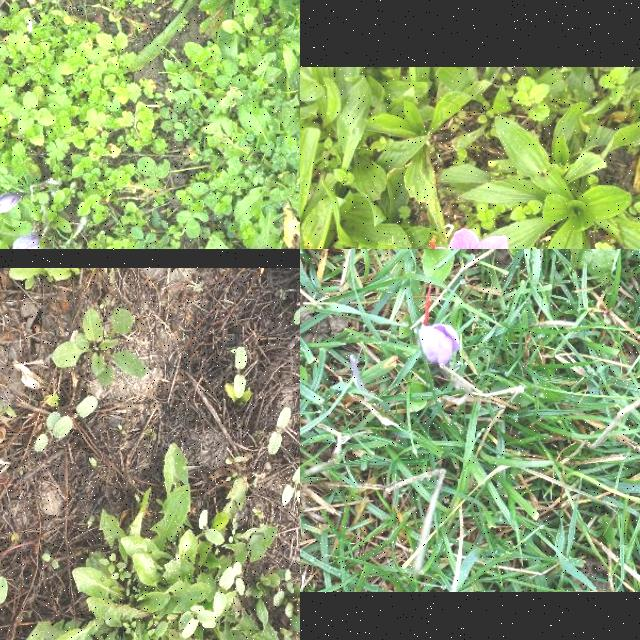flower: (420, 284, 460, 362), (448, 229, 520, 249), (0, 191, 24, 212), (12, 236, 41, 249)
